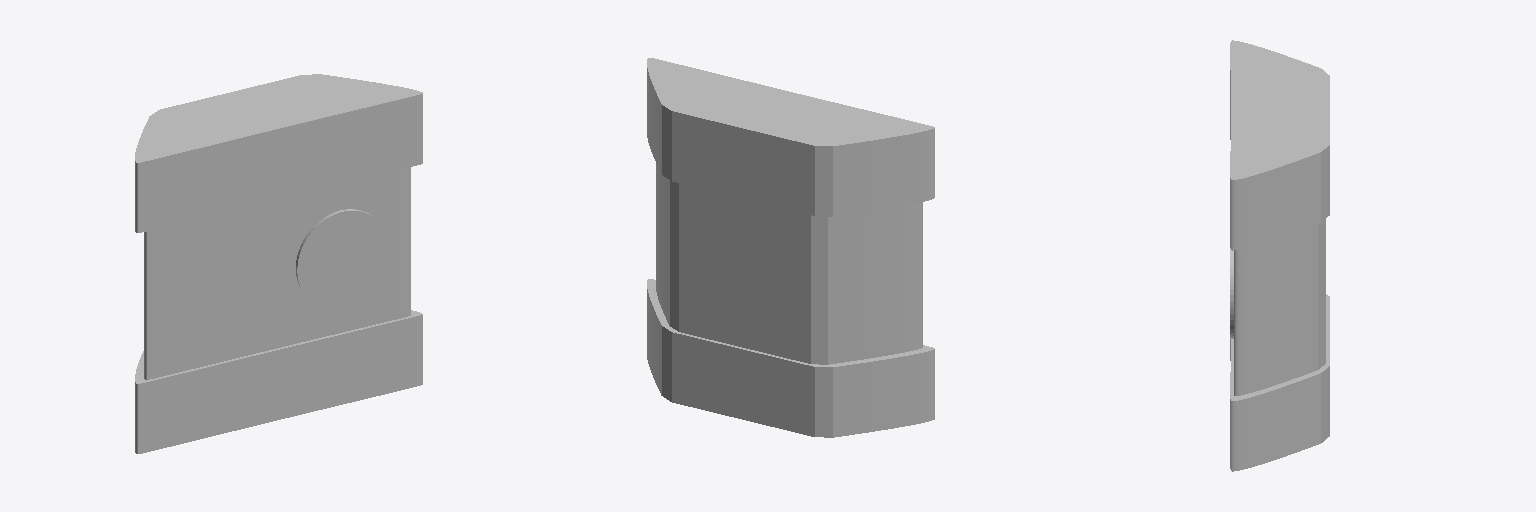
The model's file is body.obj.
The picture shows the model from 3 angles: view 1: azimuth 30°, elevation 25°; view 2: azimuth 150°, elevation 25°; view 3: azimuth 270°, elevation 25°; orthographic projection.
Visible parts, largest first — view 1: obj_1, obj_0, obj_2; view 2: obj_1, obj_0; view 3: obj_1, obj_0.
Part boxes in pixels (x1,y1,x2,y2): obj_1: (135,74,422,453); obj_0: (144,167,410,379); obj_2: (296,209,387,307); obj_1: (647,58,934,437); obj_0: (656,164,922,364); obj_1: (1230,40,1329,471); obj_0: (1234,219,1325,395).
Size of the model in its own units: 43.39 by 42.18 by 13.03.